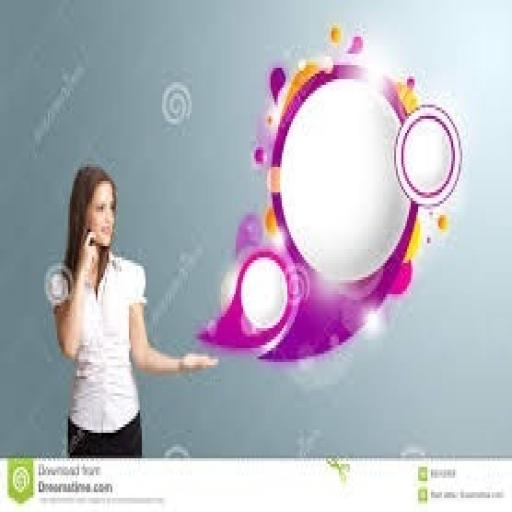calling: (42, 161, 220, 458)
